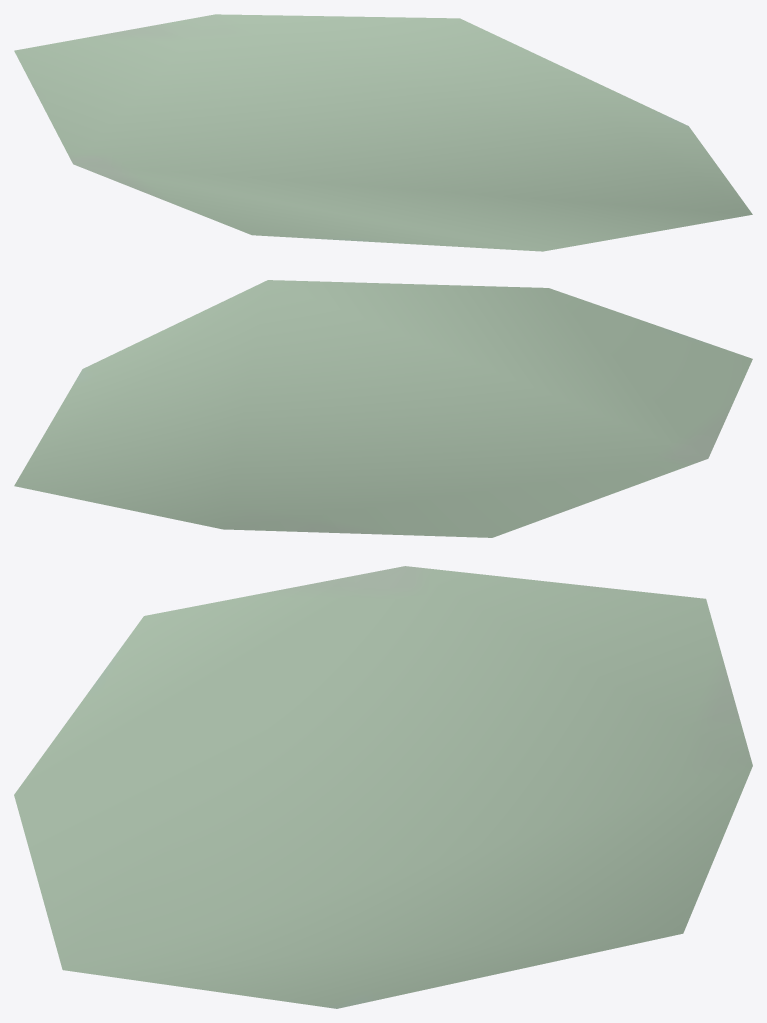
File: TROLLHOLE02_HOLECAP202.fbx
The picture shows the model from 3 angles, top to bottom: view 1: azimuth 30°, elevation 25°; view 2: azimuth 150°, elevation 25°; view 3: azimuth 270°, elevation 25°; orthographic projection. The views are drawn at different scales.
Parts seen in each view (by area): view 1: TROLLHOLE02_HOLECAP202; view 2: TROLLHOLE02_HOLECAP202; view 3: TROLLHOLE02_HOLECAP202.
Part boxes in pixels (x1,y1,x2,y2): TROLLHOLE02_HOLECAP202: (14,14,752,251); TROLLHOLE02_HOLECAP202: (14,280,752,537); TROLLHOLE02_HOLECAP202: (14,566,752,1008).
Size of the model in its own units: 12592 by 1831 by 11487.
1 material, 1 textured.
